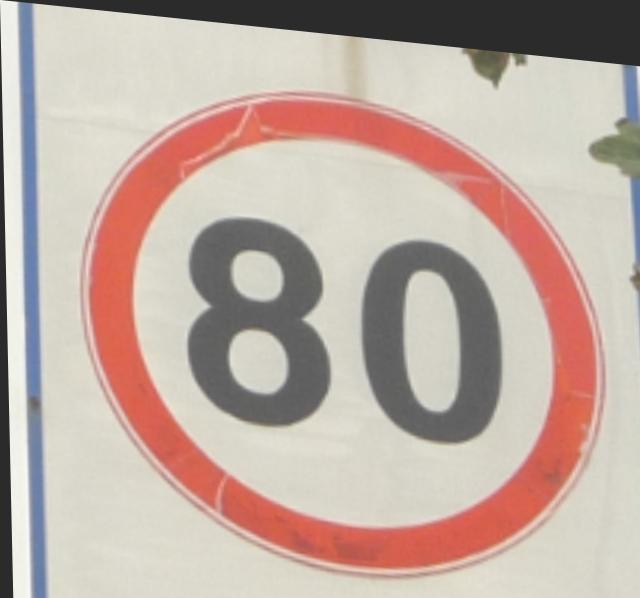limit80: (61, 55, 617, 597)
